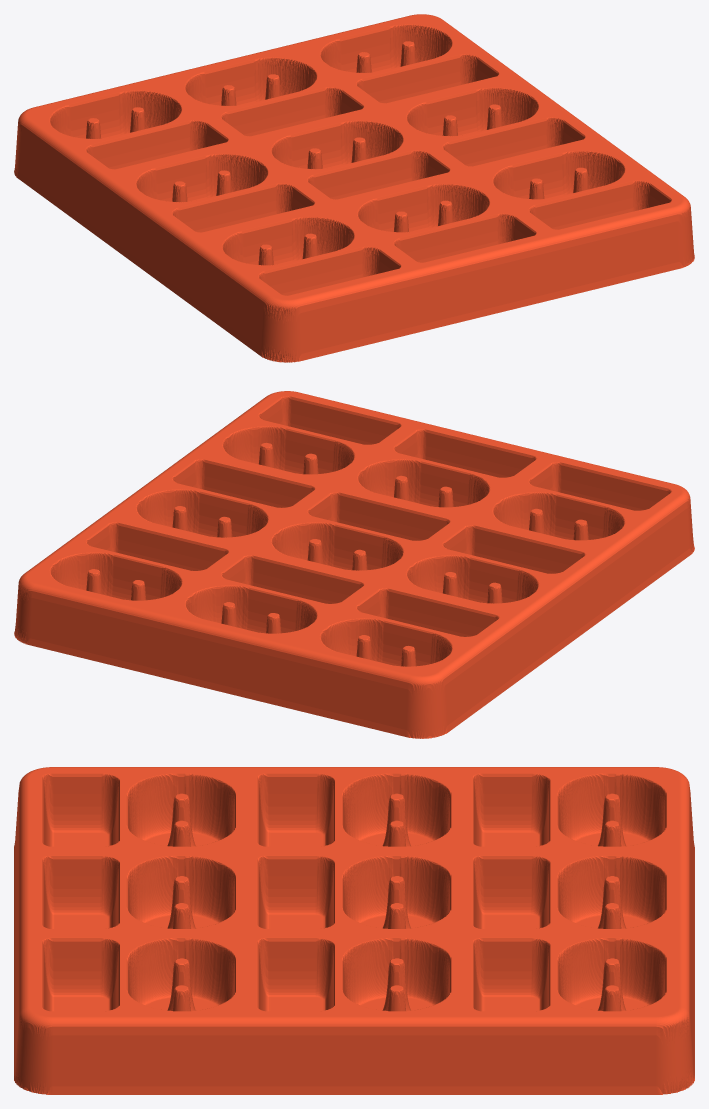
The model's file is mold.glb.
3 renders of one model, top to bottom at view 1: azimuth 30°, elevation 25°; view 2: azimuth 150°, elevation 25°; view 3: azimuth 270°, elevation 25°, orthographic. The views are drawn at different scales.
Visible parts, largest first — view 1: geometry_0; view 2: geometry_0; view 3: geometry_0.
Boxes of the visible parts, x1=… form: geometry_0: x1=14, y1=14, x2=694, y2=362; geometry_0: x1=14, y1=391, x2=694, y2=738; geometry_0: x1=14, y1=767, x2=694, y2=1094.
Bounding box in the file's own units: 0.1451 × 0.0185 × 0.1595.
